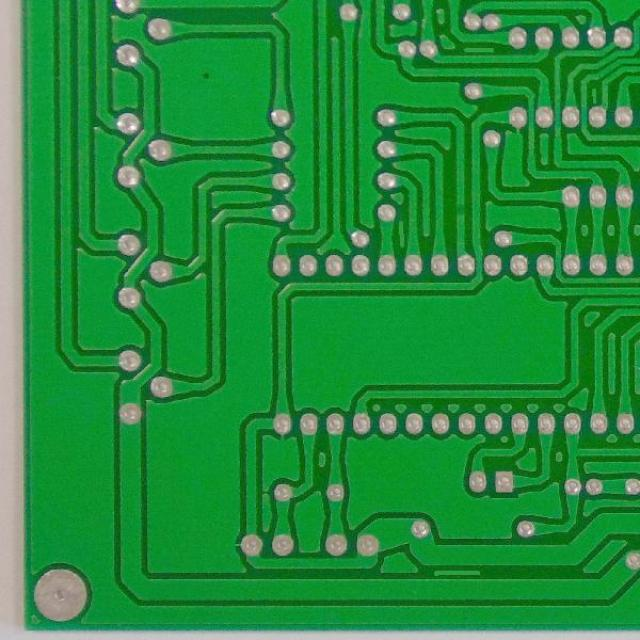Spurious_Cooper: (429, 566, 485, 580), (394, 216, 409, 254), (461, 44, 498, 54)
